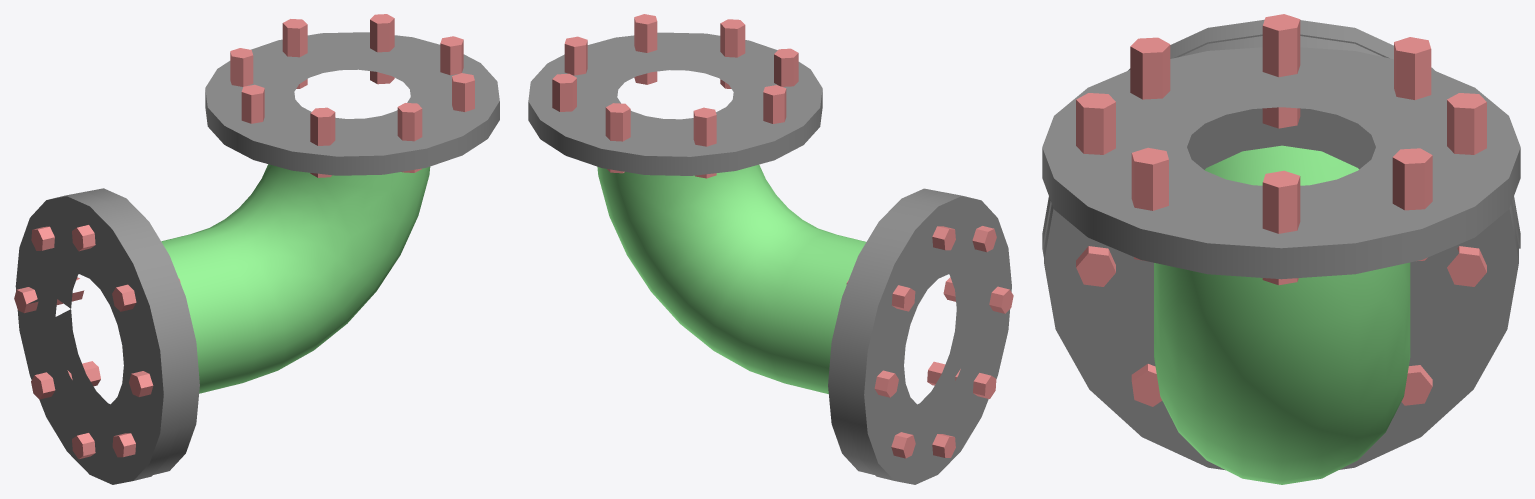
File: SM_Sliv_All_OporniyPatrubok.gltf
The picture shows the model from 3 angles, left to right: view 1: azimuth 30°, elevation 25°; view 2: azimuth 150°, elevation 25°; view 3: azimuth 270°, elevation 25°; orthographic projection. The views are drawn at different scales.
Parts seen in each view (by area): view 1: SM_Sliv_All_OporniyPatrubok; view 2: SM_Sliv_All_OporniyPatrubok; view 3: SM_Sliv_All_OporniyPatrubok.
Part boxes in pixels (bbox=[...]): SM_Sliv_All_OporniyPatrubok: bbox=[14, 14, 499, 484]; SM_Sliv_All_OporniyPatrubok: bbox=[528, 14, 1013, 484]; SM_Sliv_All_OporniyPatrubok: bbox=[1042, 14, 1520, 484].
Size of the model in its own units: 0.3876 by 0.317 by 0.2466.
